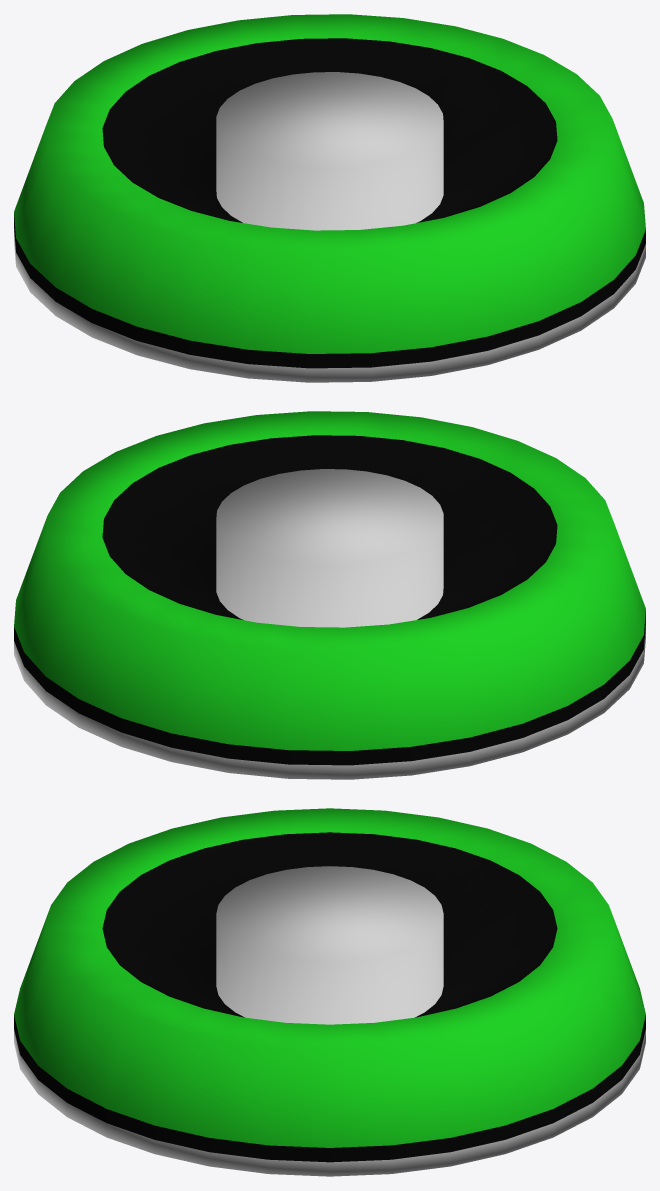
File: drum_note_reshape.obj
3 views of the same model, one above another, from view 1: azimuth 30°, elevation 25°; view 2: azimuth 150°, elevation 25°; view 3: azimuth 270°, elevation 25° (orthographic).
Parts seen in each view (by area): view 1: Circle.001; view 2: Circle.001; view 3: Circle.001.
Part boxes in pixels (<box>): Circle.001: <box>14,14,645,382</box>; Circle.001: <box>14,411,645,779</box>; Circle.001: <box>14,808,645,1176</box>.
Bounding box in the file's own units: 1.8 × 0.405 × 1.8.
